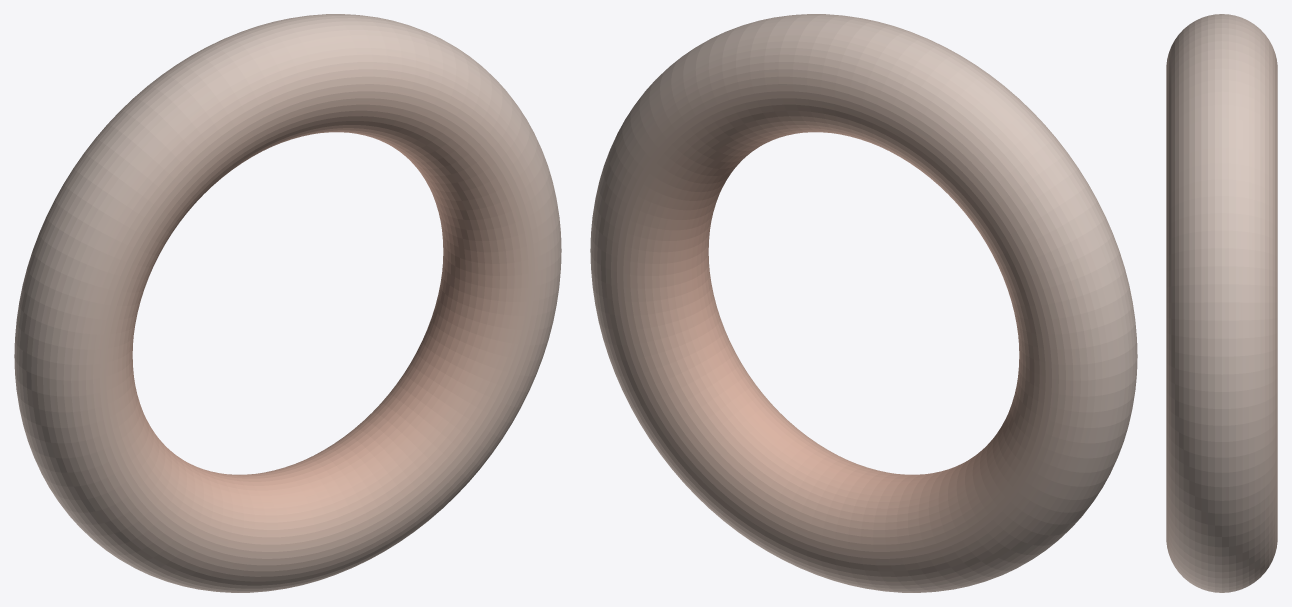
The picture shows the model from 3 angles, left to right: view 1: azimuth 30°, elevation 25°; view 2: azimuth 150°, elevation 25°; view 3: azimuth 270°, elevation 25°; orthographic projection. The views are drawn at different scales.
Visible parts, largest first — view 1: world; view 2: world; view 3: world.
Part boxes in pixels (<box>): world: <box>14,14,561,592</box>; world: <box>590,14,1137,592</box>; world: <box>1166,14,1277,592</box>.
Bounding box in the file's own units: 29.73 × 29.73 × 5.72.
